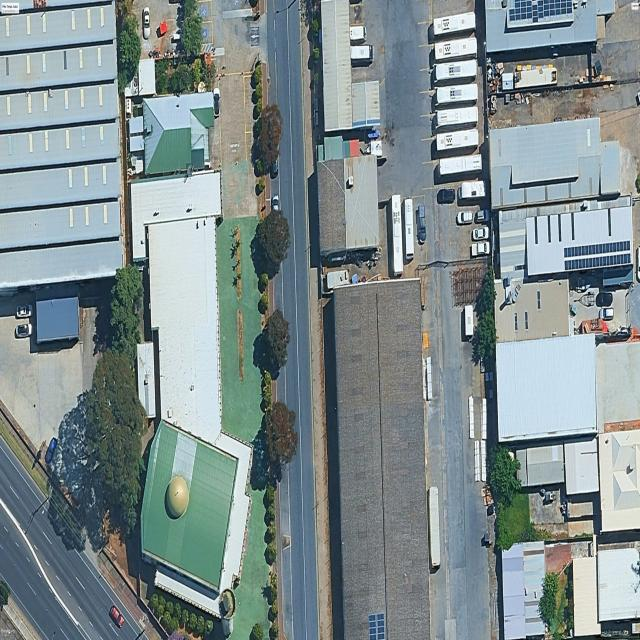Home: (316, 155, 380, 264), (142, 92, 214, 175)
mosque: (131, 171, 253, 617)
